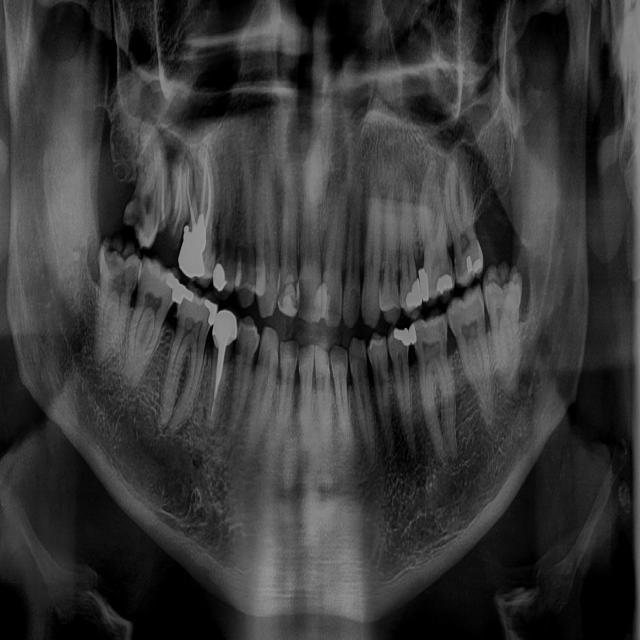71: (204, 328, 230, 401)
72: (157, 151, 200, 249), (153, 146, 173, 226)
74: (199, 141, 211, 214), (185, 167, 196, 225), (203, 156, 211, 230), (210, 399, 216, 419)
NucleOSS Implant: (177, 211, 206, 277), (390, 323, 416, 347), (404, 279, 423, 310), (432, 272, 456, 296), (165, 271, 182, 301), (176, 284, 196, 308), (418, 268, 431, 303), (213, 262, 227, 291), (205, 299, 220, 326), (409, 322, 417, 345), (473, 257, 482, 272), (466, 256, 473, 273)
Sterngold Implant: (124, 187, 148, 241), (100, 239, 133, 274), (299, 277, 311, 319), (352, 288, 361, 319), (292, 279, 301, 309), (454, 255, 462, 280), (447, 259, 455, 282)
Straumann Implant: (276, 274, 298, 317), (311, 281, 324, 322), (321, 281, 330, 324)
Zimmer Implant: (209, 306, 242, 352)
